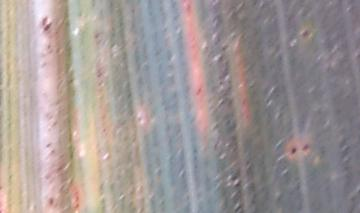tarspot: (42, 22, 53, 33), (289, 145, 299, 157), (299, 28, 310, 38), (45, 43, 54, 55), (193, 86, 203, 96), (93, 30, 103, 40), (41, 15, 49, 27), (301, 142, 309, 152), (39, 60, 47, 70), (235, 180, 241, 191), (48, 195, 53, 208), (45, 141, 52, 150), (230, 175, 239, 182)
